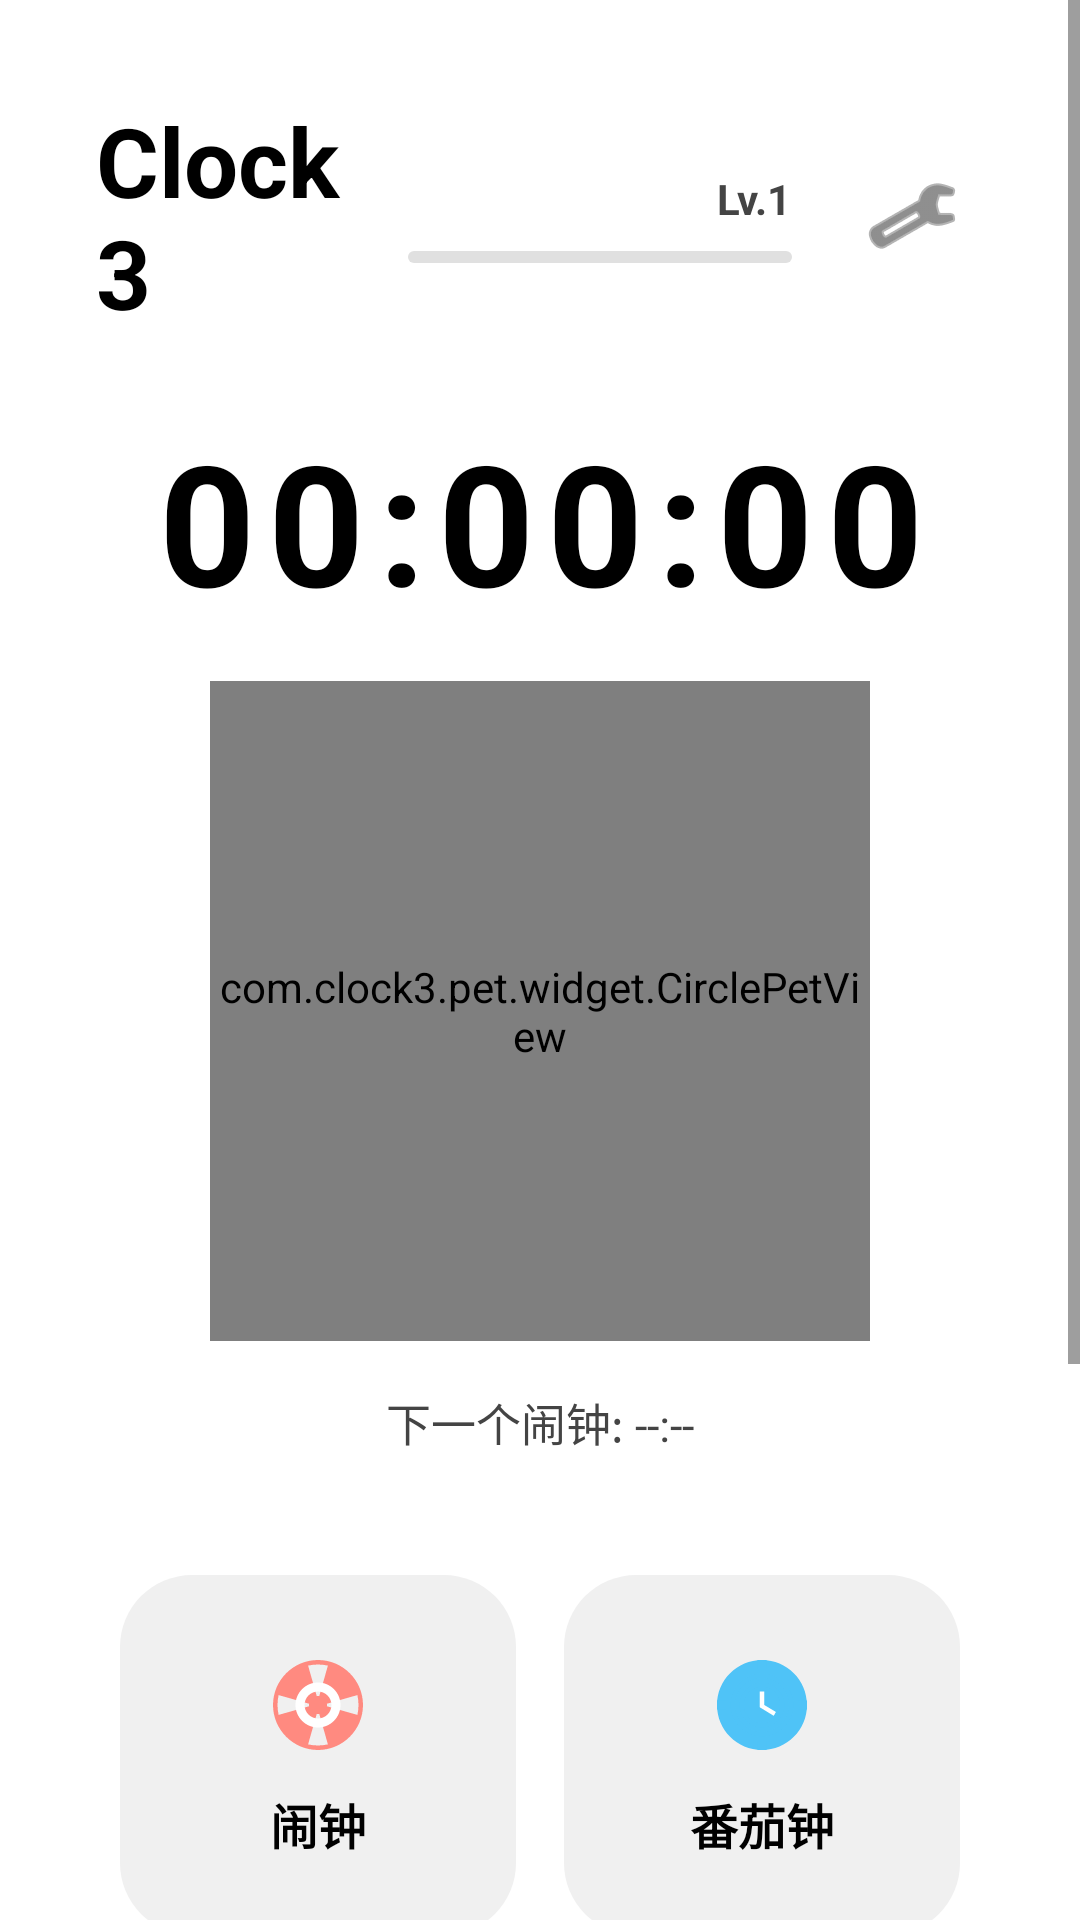

Point at icon controls on the screen. Image size 1080*1920, points as (x,y).
设置: (912,216)
